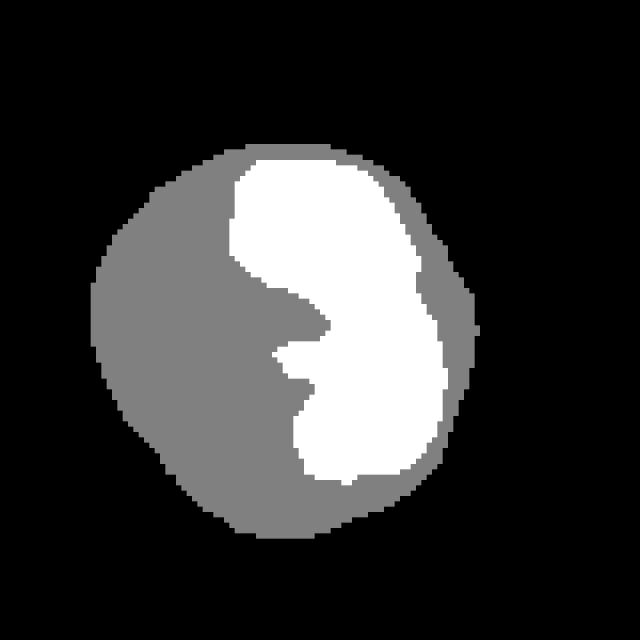WBC: (75, 117, 512, 560)
